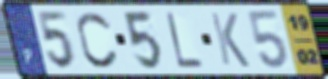5: (245, 9, 291, 72), (33, 9, 79, 71), (121, 9, 164, 71)
C: (75, 9, 121, 70)
K: (208, 10, 253, 69)
L: (164, 10, 206, 70)
